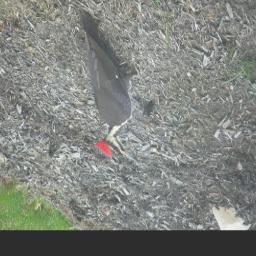Woodpecker: (74, 10, 145, 166)
